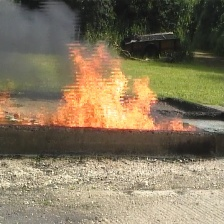fire: (48, 43, 161, 131)
